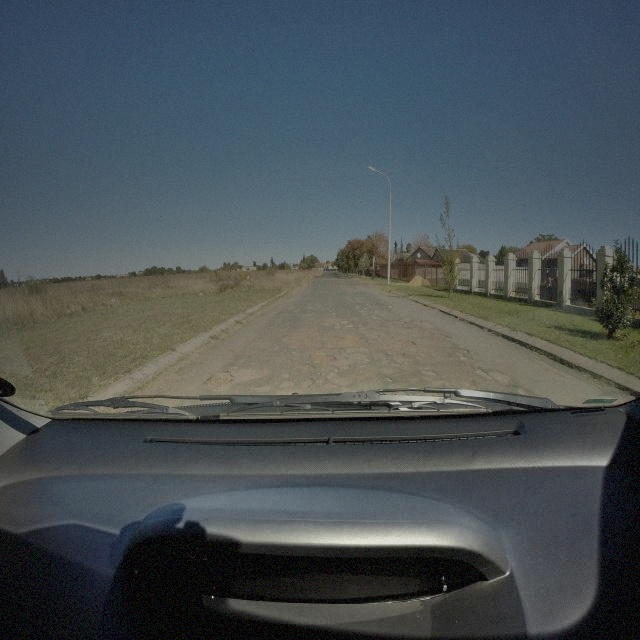pothole: (204, 370, 237, 392), (335, 336, 366, 349), (314, 354, 337, 369), (395, 337, 415, 351), (446, 347, 469, 357), (434, 330, 452, 341), (300, 378, 316, 390), (298, 365, 315, 374)
